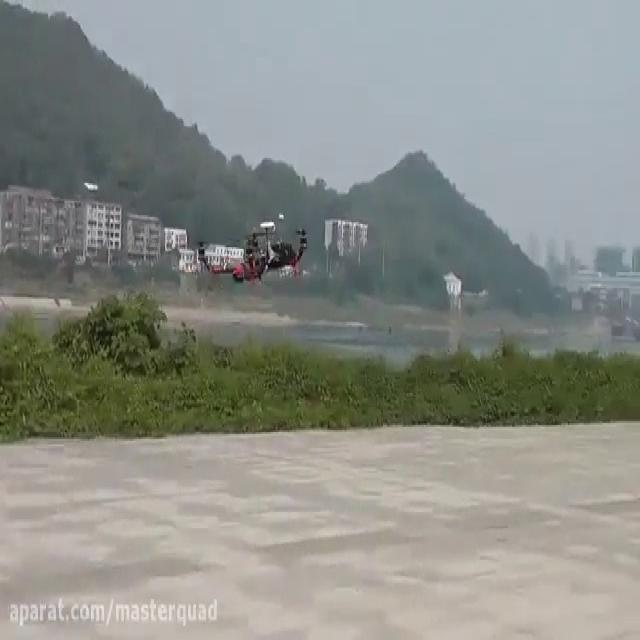drone: (195, 208, 310, 293)
